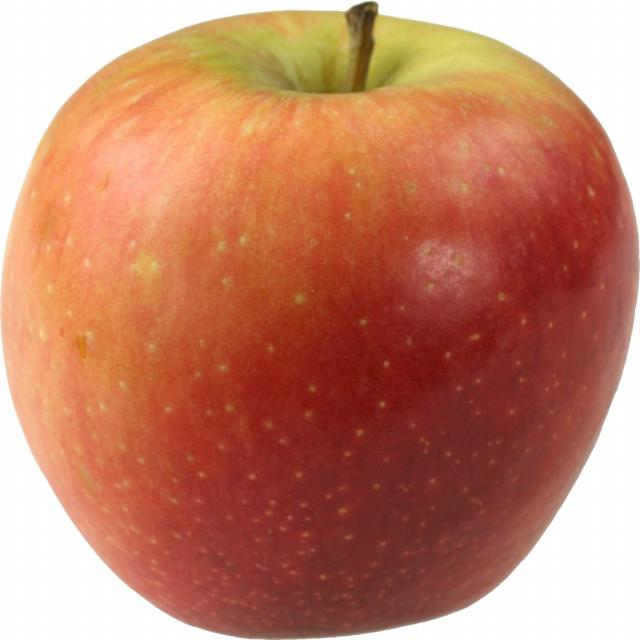Apple: (7, 0, 640, 640)
